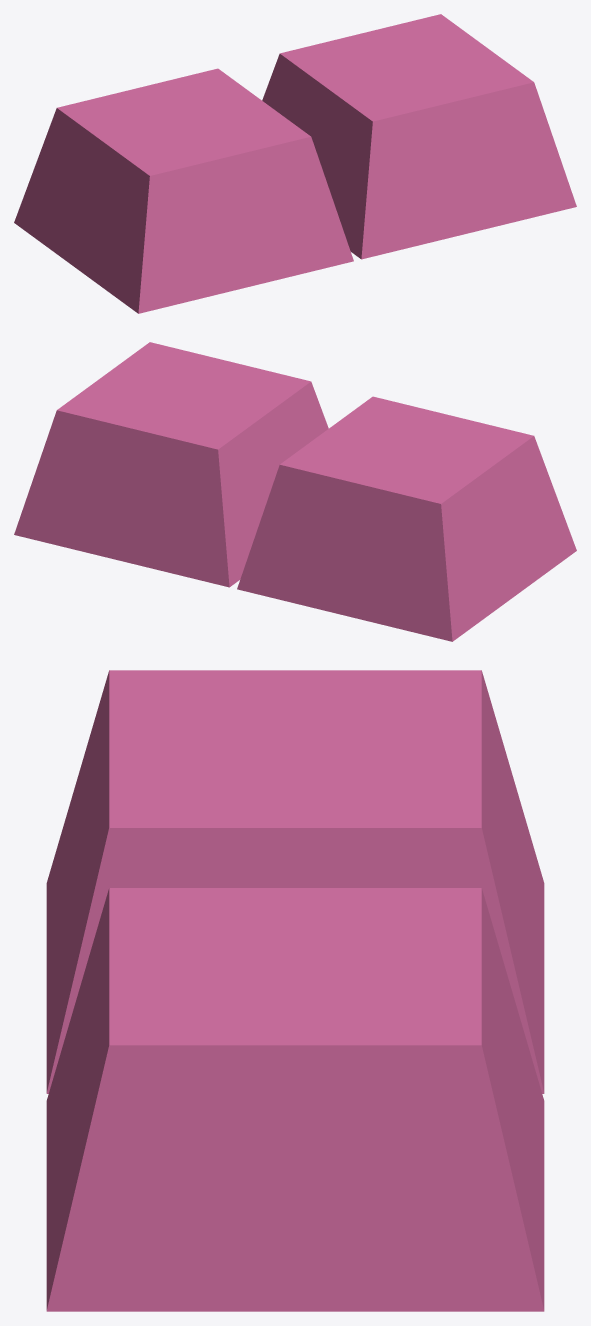
File: Horizontal2x1_Pink_low poly.fbx
3 renders of one model, top to bottom at view 1: azimuth 30°, elevation 25°; view 2: azimuth 150°, elevation 25°; view 3: azimuth 270°, elevation 25°, orthographic. The views are drawn at different scales.
Visible parts, largest first — view 1: Cube.002; view 2: Cube.002; view 3: Cube.002.
Part boxes in pixels (bbox=[...]): Cube.002: bbox=[14, 14, 576, 313]; Cube.002: bbox=[14, 342, 576, 641]; Cube.002: bbox=[46, 670, 544, 1311].
Bounding box in the file's own units: 13.62 × 7.23 × 27.71.
